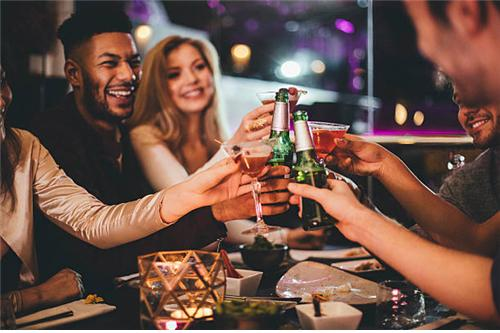alcohol: (225, 140, 275, 237), (292, 109, 322, 229), (266, 90, 292, 167), (261, 90, 304, 116), (322, 123, 349, 162)
